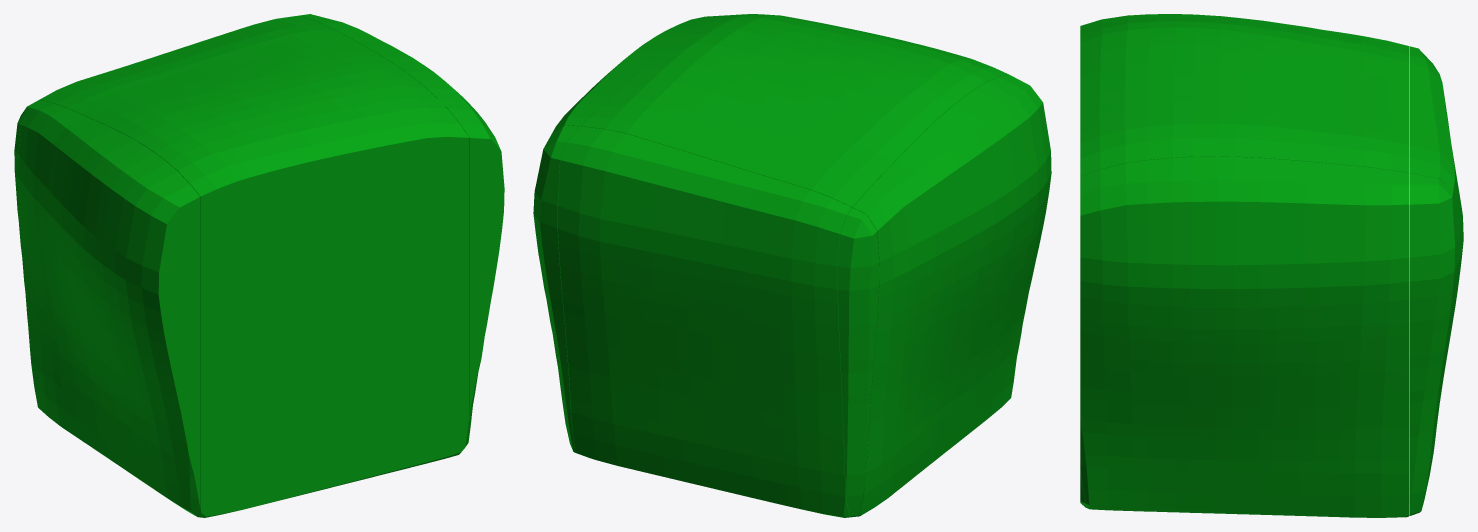
Rendered from 4by10beveledsubdivided.002.fbx.
3 views of the same model, side by side, from view 1: azimuth 30°, elevation 25°; view 2: azimuth 150°, elevation 25°; view 3: azimuth 270°, elevation 25° (orthographic). The views are drawn at different scales.
Visible parts, largest first — view 1: 4by10beveledsubdivided.002; view 2: 4by10beveledsubdivided.002; view 3: 4by10beveledsubdivided.002.
Boxes of the visible parts, <box> form: 4by10beveledsubdivided.002: <box>14,14,504,517</box>; 4by10beveledsubdivided.002: <box>533,14,1051,517</box>; 4by10beveledsubdivided.002: <box>1080,14,1463,517</box>.
Bounding box in the file's own units: 279 × 247 × 233.
